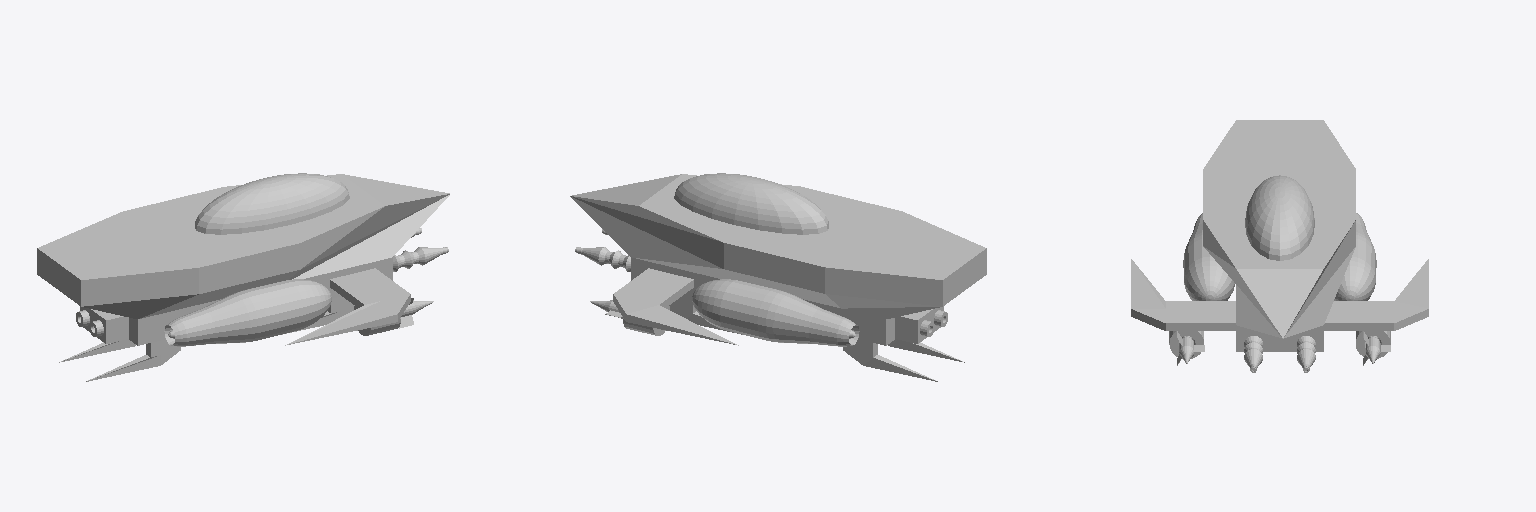
Rendered from Spaceship.obj.
3 views of the same model, side by side, from view 1: azimuth 30°, elevation 25°; view 2: azimuth 150°, elevation 25°; view 3: azimuth 270°, elevation 25° (orthographic).
Visible parts, largest first — view 1: Spaceship, RightThrust, ControlCenter, RightWing, BackRightStand, ShipBackThrust, RightGun, FrontRightStand; view 2: Spaceship, LeftThrust, ControlCenter, LeftWing, BackLeftStand, ShipBackThrust, LeftGun, FrontLeftStand; view 3: Spaceship, ControlCenter, RightWing, LeftWing, RightThrust, LeftThrust, LeftGun, RightGun.
Boxes of the visible parts, x1=… form: Spaceship: x1=37, y1=174, x2=449, y2=345; RightThrust: x1=164, y1=279, x2=331, y2=346; ControlCenter: x1=195, y1=173, x2=349, y2=234; RightWing: x1=285, y1=268, x2=410, y2=345; BackRightStand: x1=86, y1=339, x2=180, y2=381; ShipBackThrust: x1=80, y1=306, x2=128, y2=343; RightGun: x1=393, y1=247, x2=446, y2=271; FrontRightStand: x1=282, y1=296, x2=354, y2=334; Spaceship: x1=570, y1=174, x2=986, y2=345; LeftThrust: x1=692, y1=279, x2=859, y2=346; ControlCenter: x1=674, y1=173, x2=828, y2=234; LeftWing: x1=613, y1=268, x2=738, y2=345; BackLeftStand: x1=843, y1=339, x2=937, y2=381; ShipBackThrust: x1=895, y1=306, x2=943, y2=343; LeftGun: x1=577, y1=247, x2=630, y2=271; FrontLeftStand: x1=669, y1=296, x2=741, y2=334; Spaceship: x1=1203, y1=120, x2=1355, y2=351; ControlCenter: x1=1245, y1=175, x2=1314, y2=260; RightWing: x1=1131, y1=259, x2=1235, y2=330; LeftWing: x1=1324, y1=259, x2=1428, y2=330; RightThrust: x1=1183, y1=213, x2=1234, y2=300; LeftThrust: x1=1334, y1=213, x2=1376, y2=300; LeftGun: x1=1297, y1=336, x2=1315, y2=370; RightGun: x1=1244, y1=336, x2=1262, y2=370.
Size of the model in its own units: 7.76 by 2.7 by 5.1.